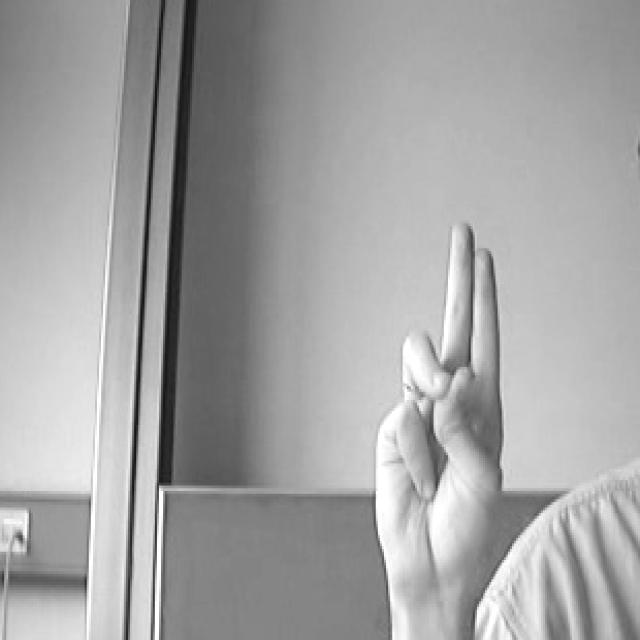U: (364, 193, 524, 600)
